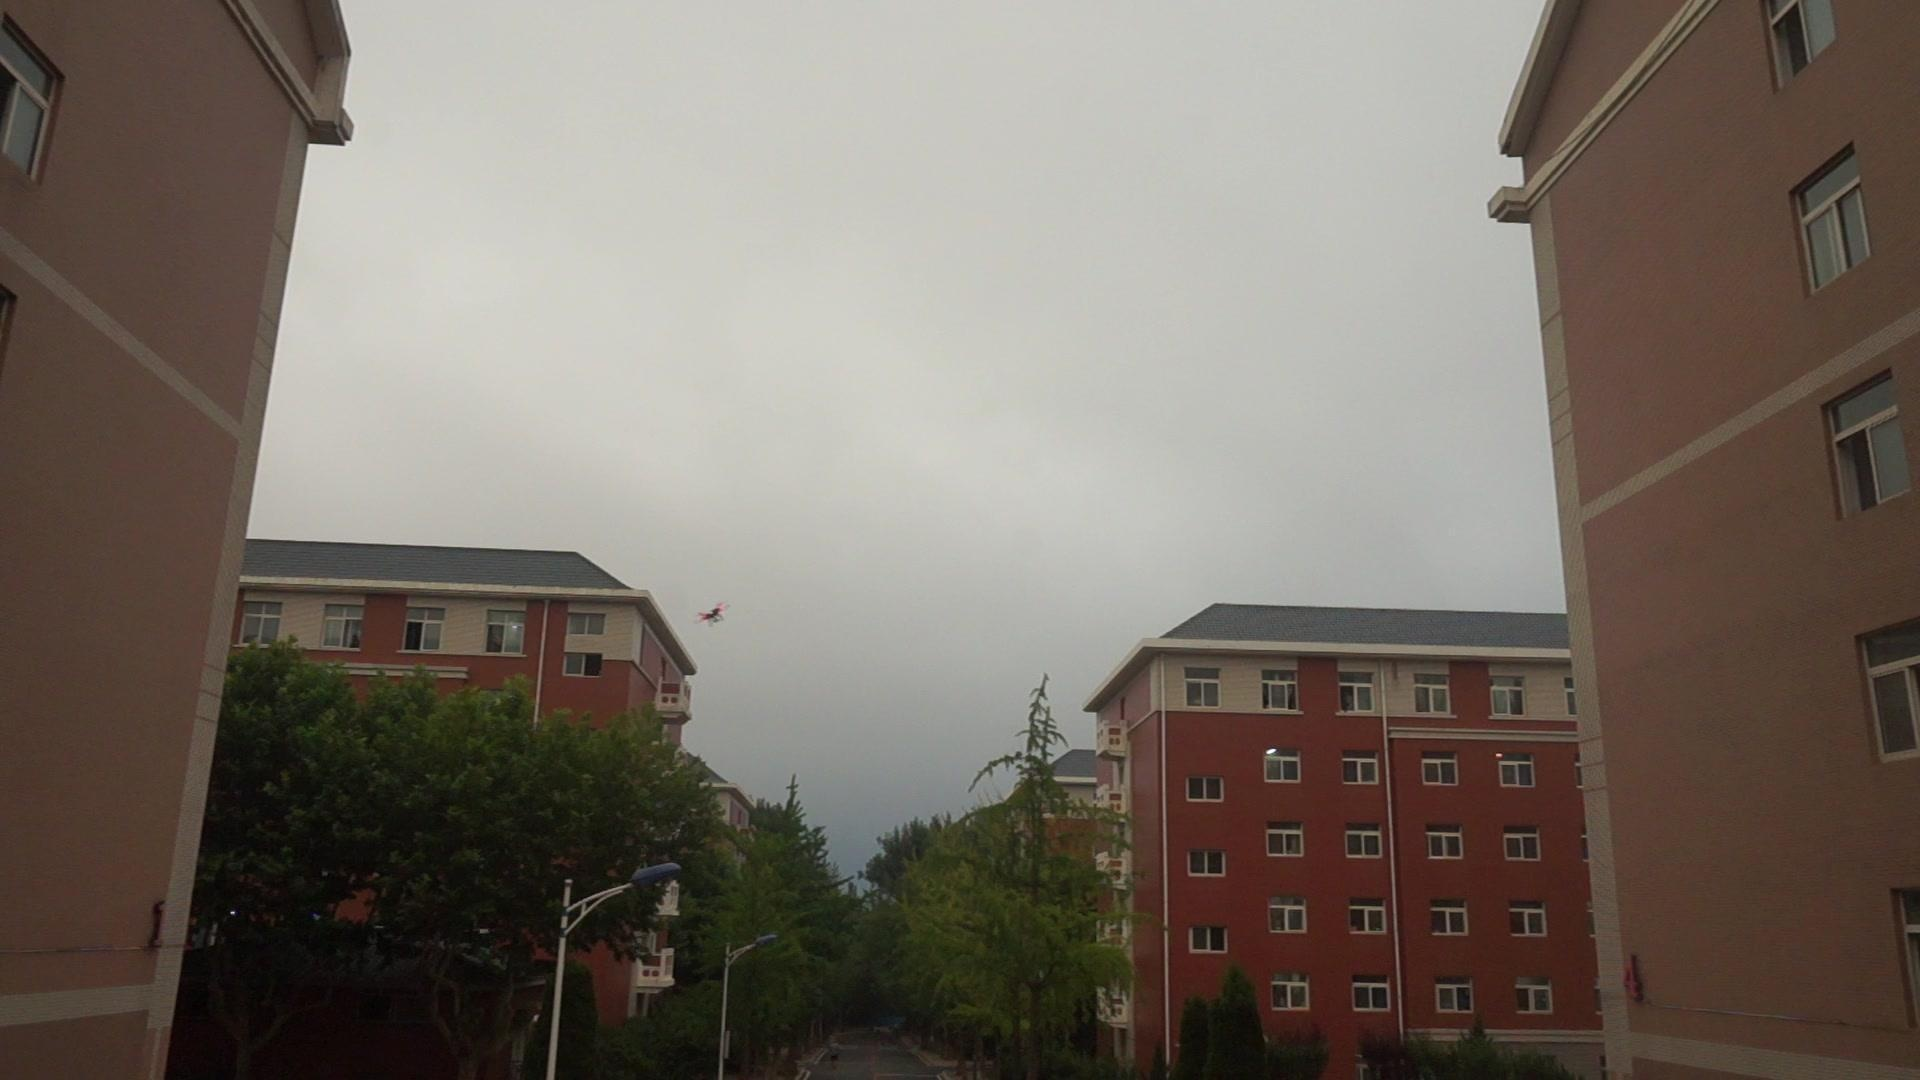UAV: (698, 603, 731, 628)
